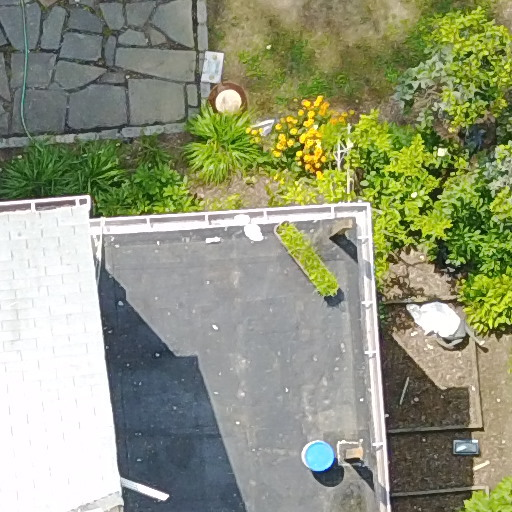container: (408, 290, 476, 347), (199, 79, 261, 125), (299, 439, 336, 479), (449, 435, 490, 461)
gutter: (111, 465, 177, 511)
